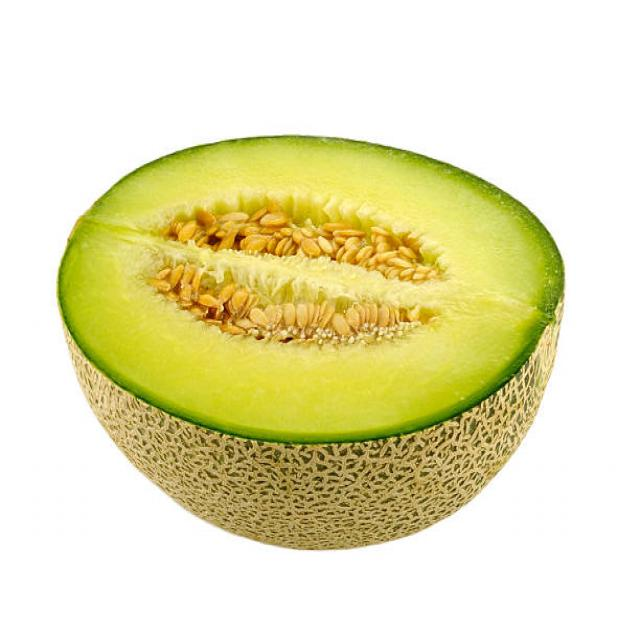Melon: (50, 125, 564, 552)
